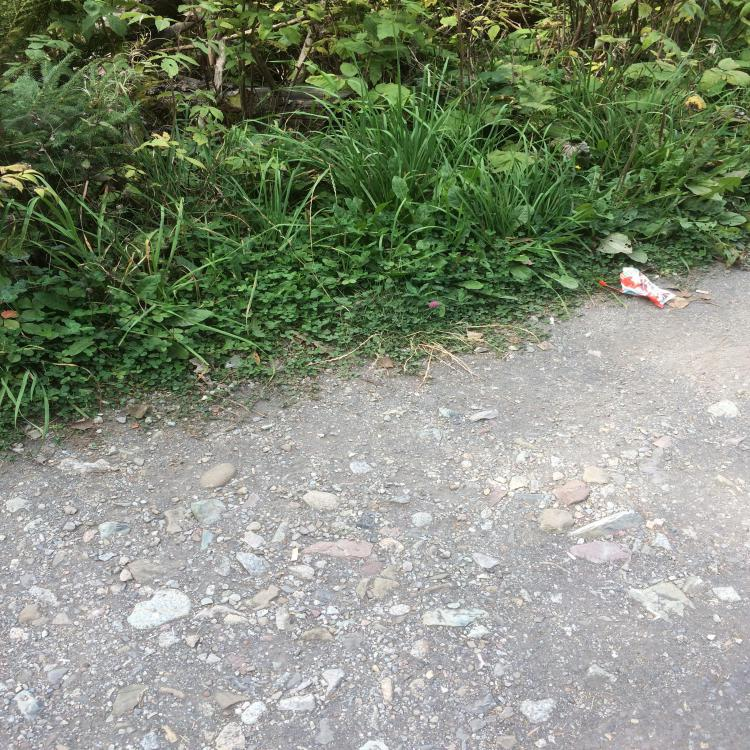Cigarette: (290, 548, 298, 562)
Other plastic: (599, 268, 676, 308)
